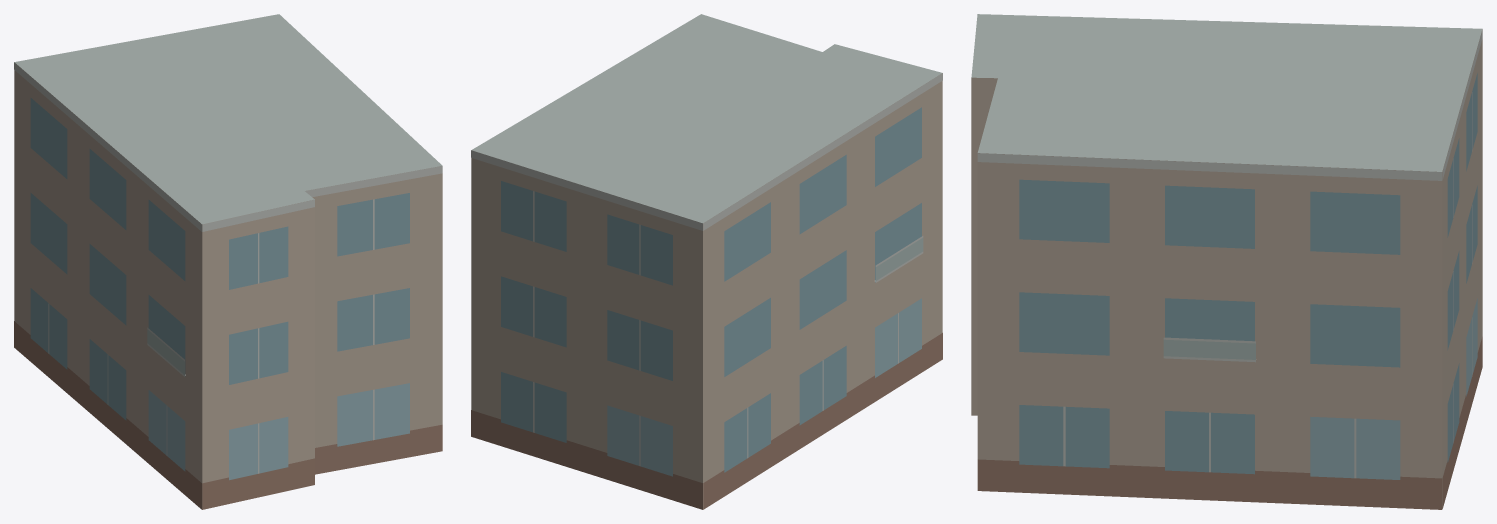
The model's file is survey-upis-32490373.glb.
The picture shows the model from 3 angles, left to right: view 1: azimuth 30°, elevation 25°; view 2: azimuth 150°, elevation 25°; view 3: azimuth 270°, elevation 25°; orthographic projection. The views are drawn at different scales.
Parts seen in each view (by area): view 1: survey-upis-32490373.tmp; view 2: survey-upis-32490373.tmp; view 3: survey-upis-32490373.tmp.
Boxes of the visible parts, x1=… form: survey-upis-32490373.tmp: x1=14, y1=14, x2=442, y2=509; survey-upis-32490373.tmp: x1=471, y1=14, x2=942, y2=509; survey-upis-32490373.tmp: x1=971, y1=14, x2=1482, y2=509.
Size of the model in its own units: 9.19 by 9.15 by 12.56.
